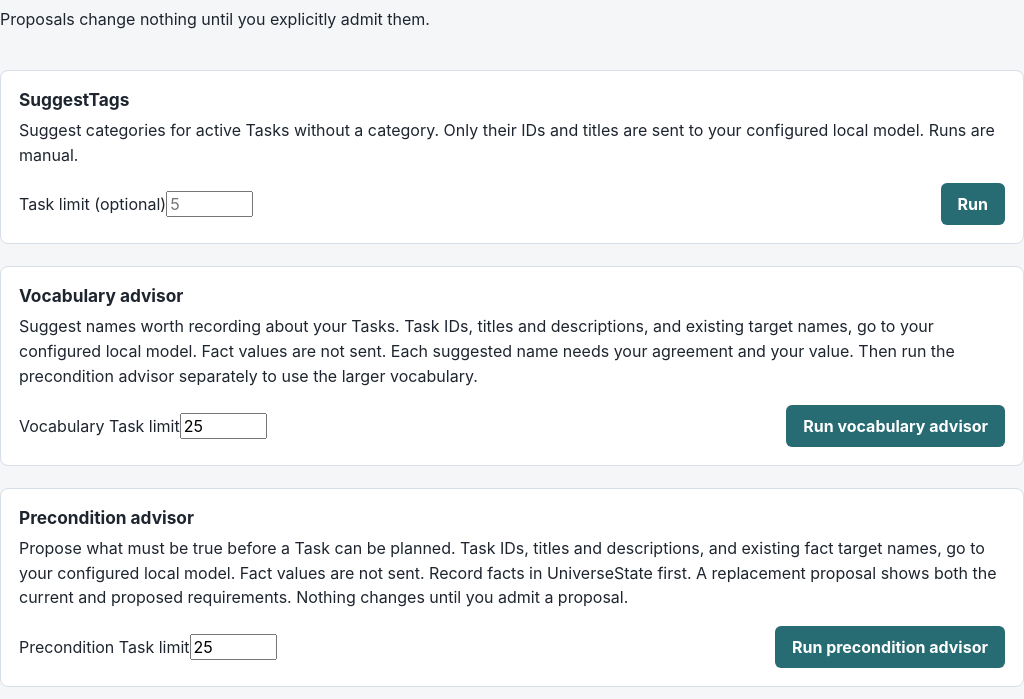
Test: eight Review diagnostics have one selectable count line with both code counts
The width and height of the screenshot is (1024, 699).
Step 1. Click the button "Run precondition advisor" → (890, 647), box [775,626,1005,668]
(page scrolled)
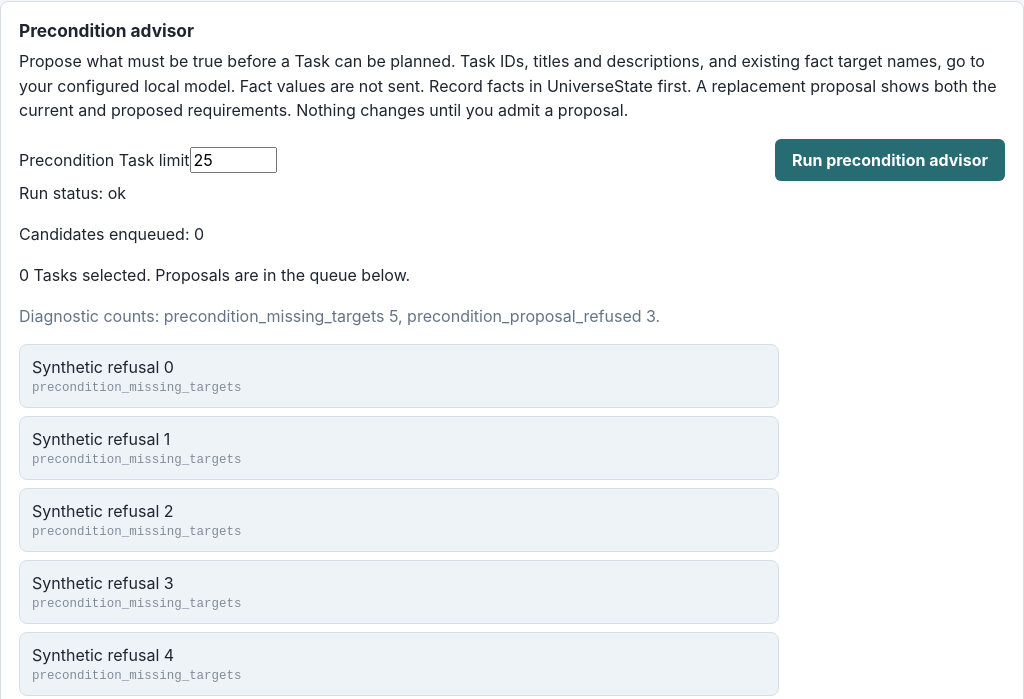
Now the message labelled "Diagnostic counts" shows "Diagnostic counts: precondition_missing_targets 5, precondition_proposal_refused 3.", box [19,306,660,326]
Now the text "Synthetic refusal 0" is shown 8 times
